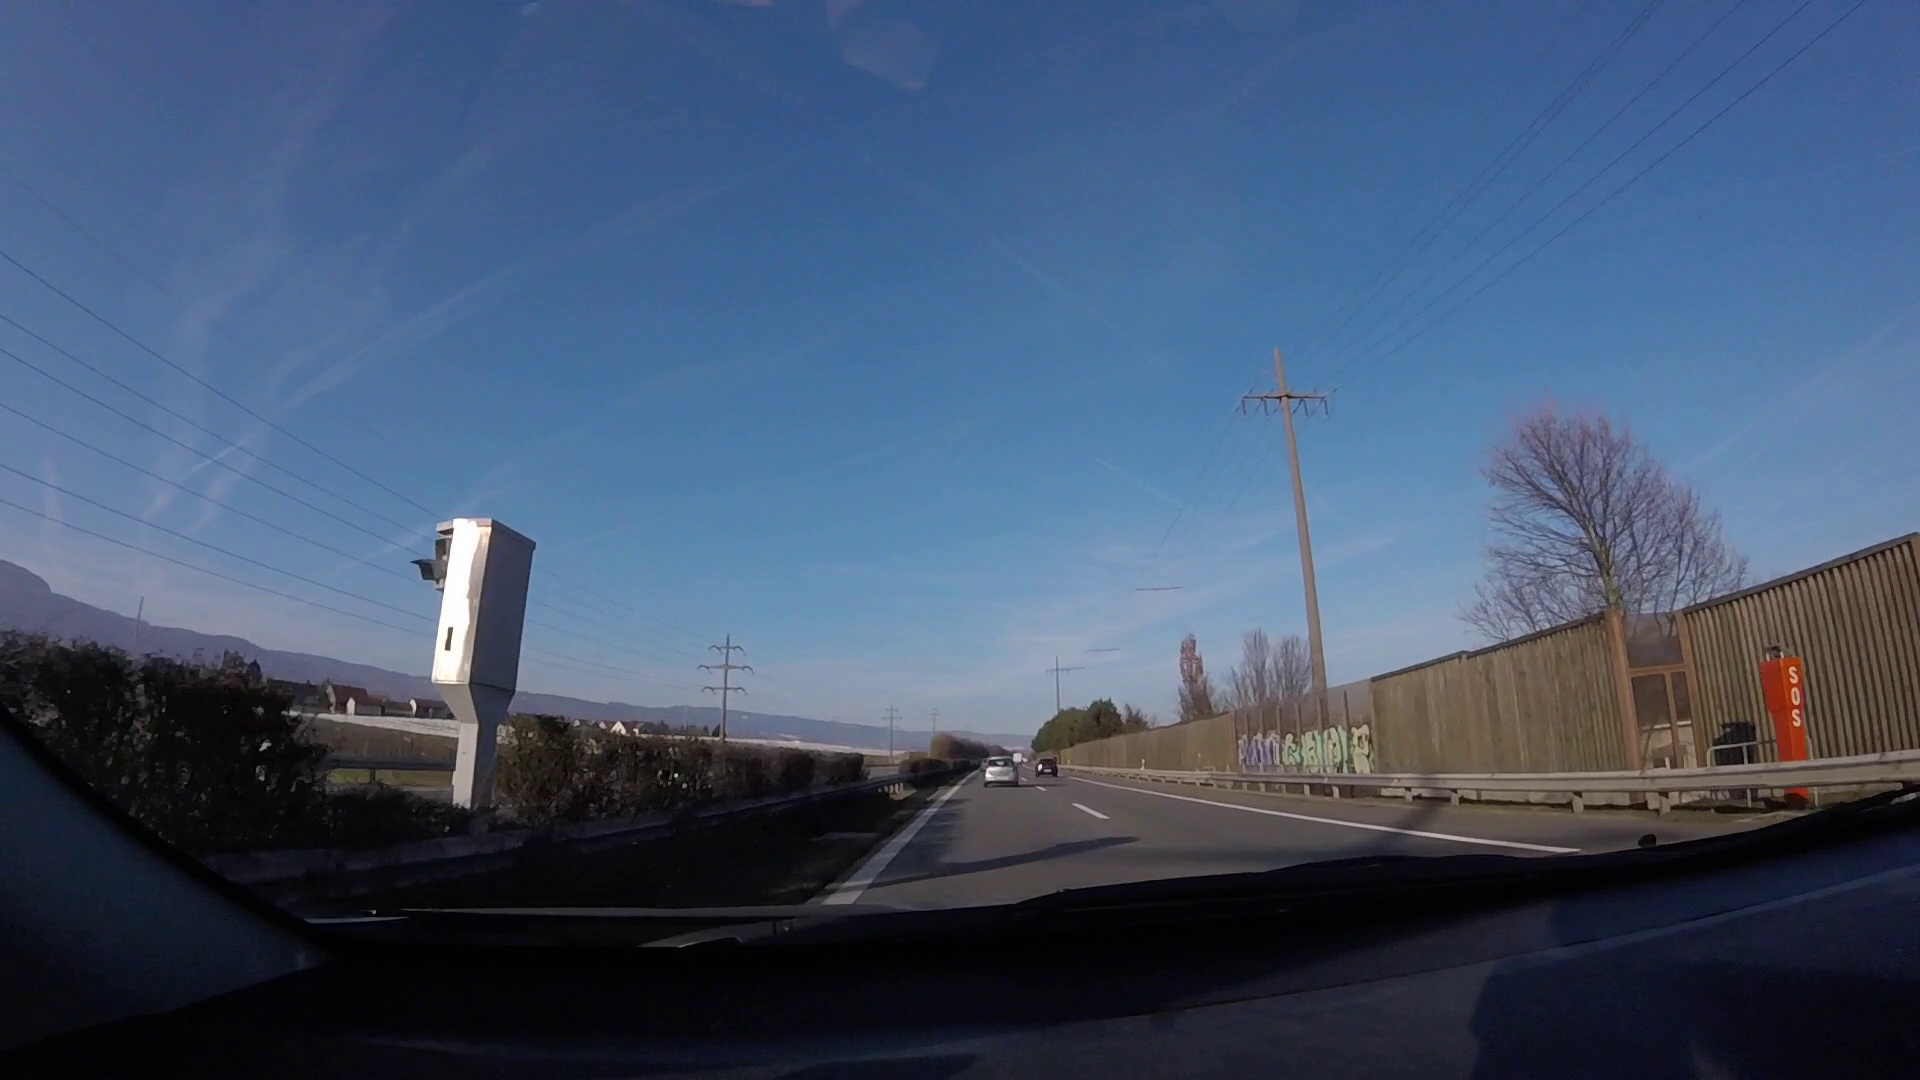radar: (411, 516, 541, 819)
